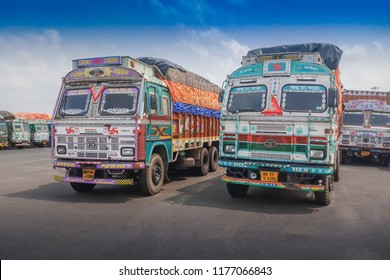truck: (50, 55, 220, 197), (218, 42, 344, 206), (339, 88, 390, 167), (9, 118, 30, 149), (31, 119, 50, 148), (1, 118, 8, 149)
